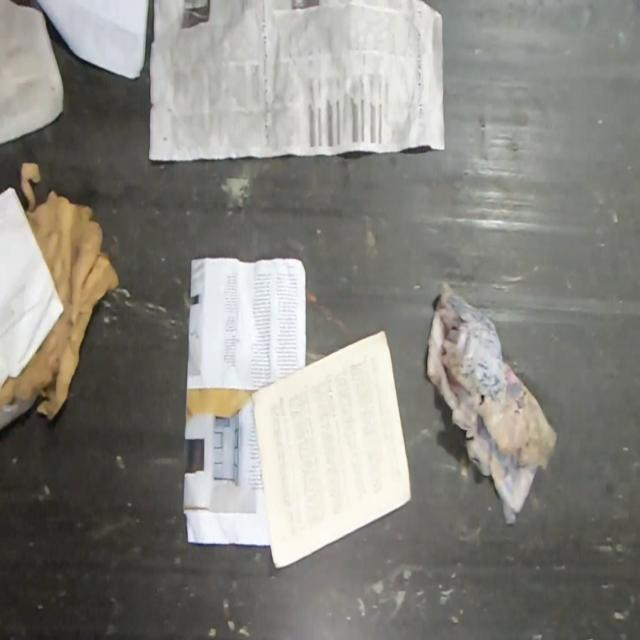cardboard: (0, 164, 120, 420)
